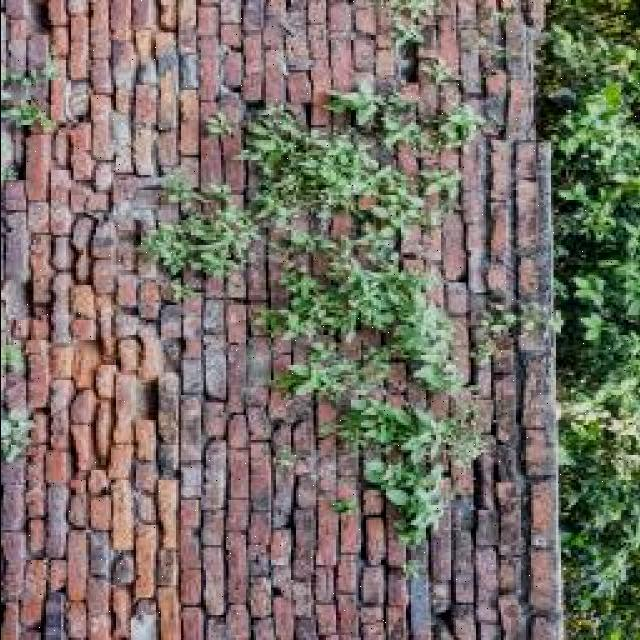crack: (1, 0, 562, 638), (5, 12, 68, 640), (190, 25, 245, 638)
dampness: (11, 476, 172, 640), (70, 7, 202, 173), (55, 323, 160, 489)
vegetation: (281, 248, 486, 594), (240, 106, 416, 249), (136, 165, 262, 297), (547, 61, 640, 233), (326, 60, 488, 158), (377, 1, 517, 76), (545, 21, 639, 119), (2, 41, 66, 170), (1, 334, 34, 470), (240, 110, 309, 173), (142, 216, 204, 285), (324, 78, 390, 130)
